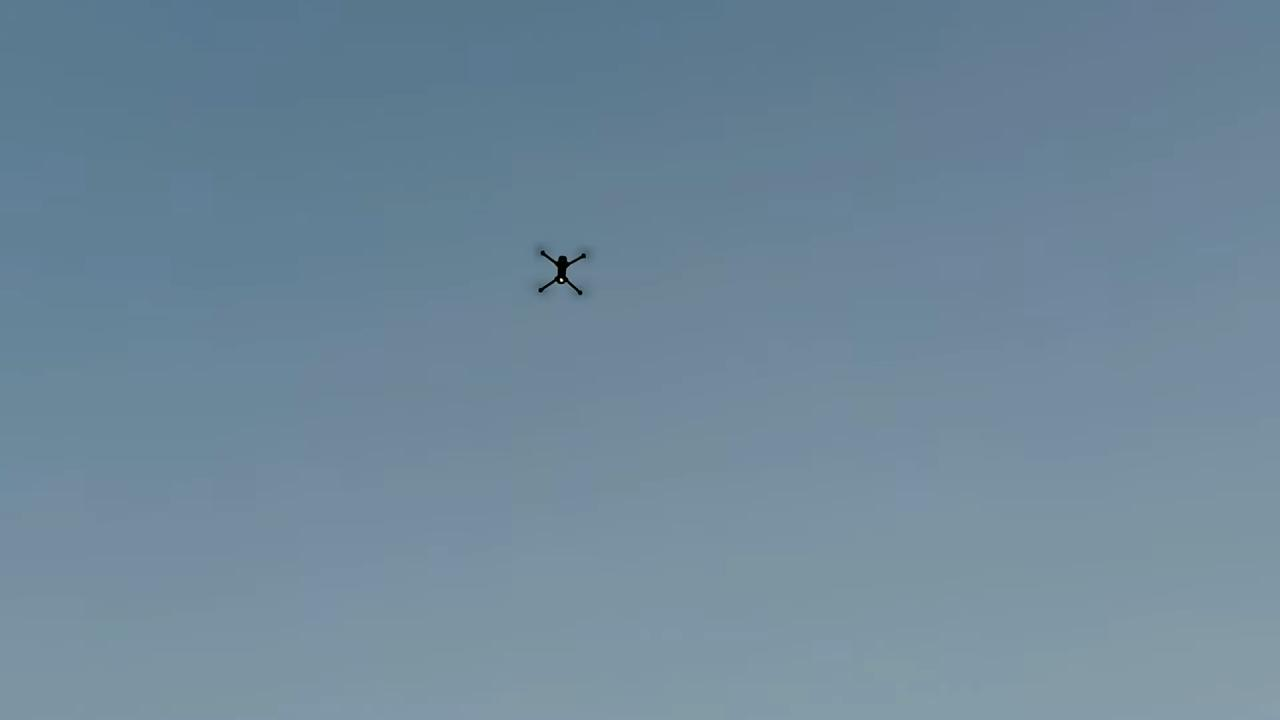Drone: (524, 236, 600, 304)
